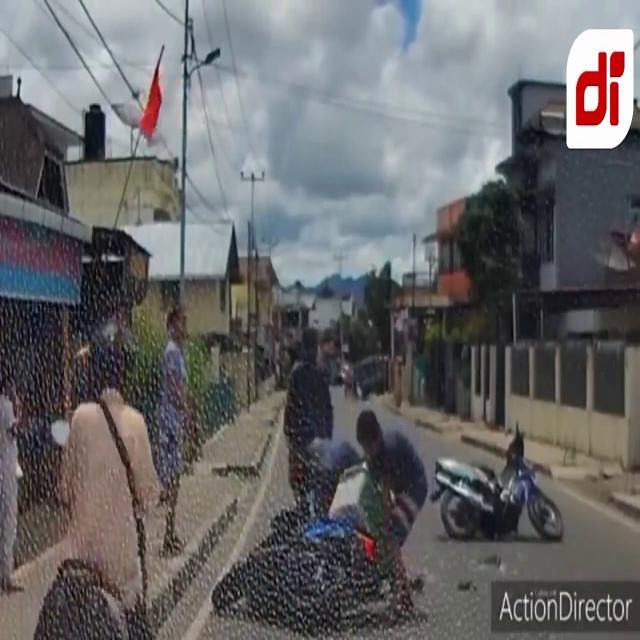multiple_accident: (281, 416, 599, 640)
